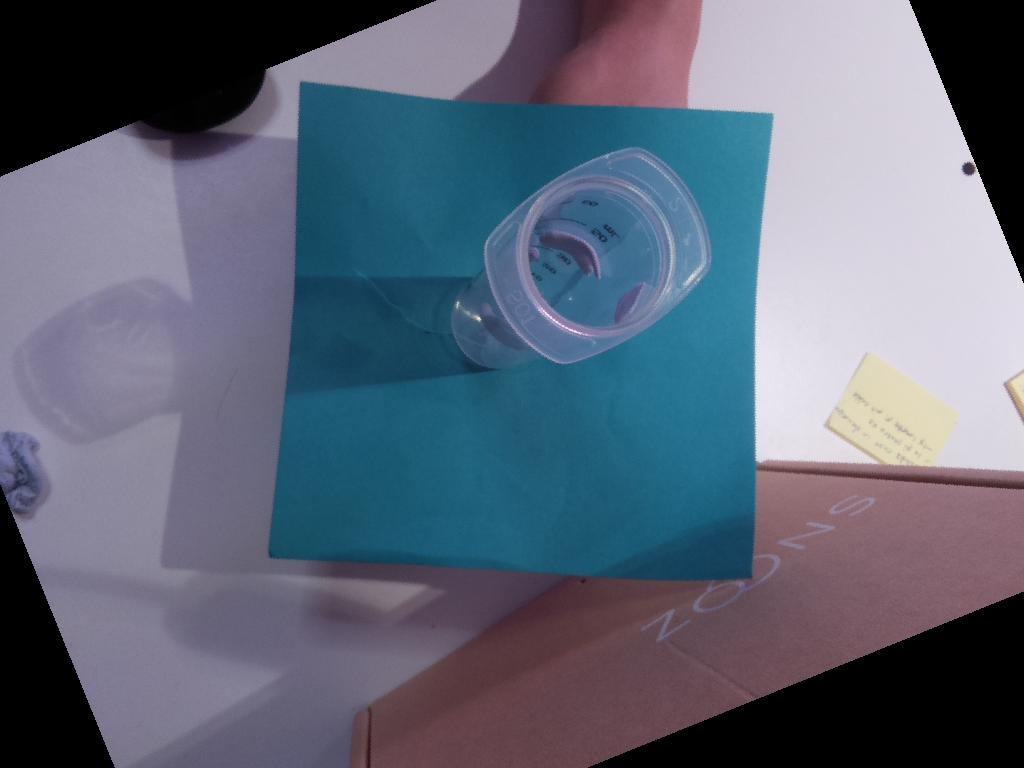dirty: (484, 147, 714, 365)
